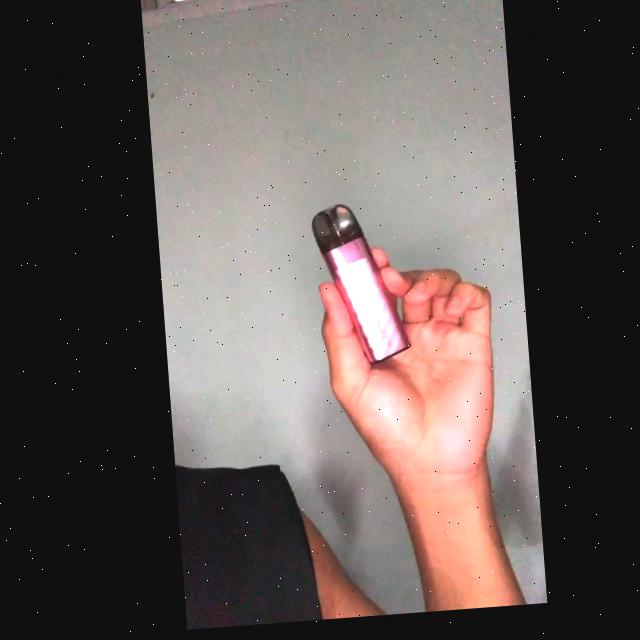vape: (305, 205, 407, 372)
